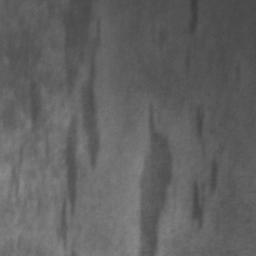Inclusion: (138, 104, 174, 256), (63, 0, 92, 92), (82, 61, 100, 168), (65, 114, 79, 205), (189, 0, 201, 32)
